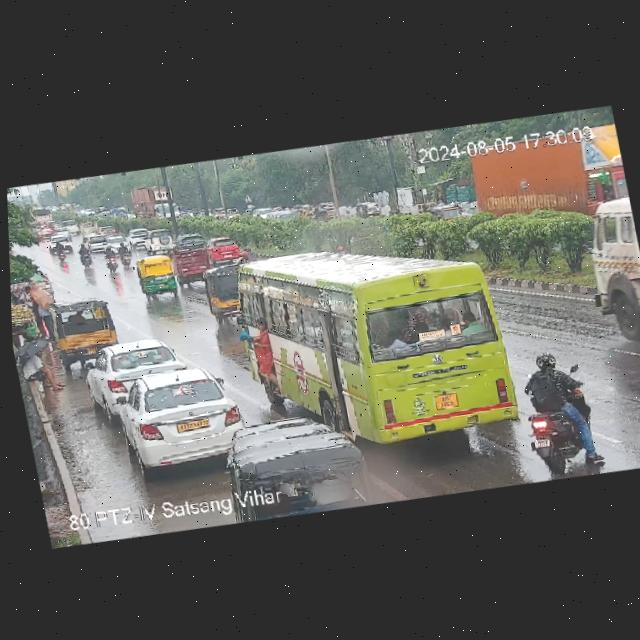bus: (225, 225, 524, 460)
car: (101, 357, 252, 478), (81, 333, 196, 421), (49, 293, 114, 356), (203, 262, 243, 318), (137, 253, 182, 300), (204, 234, 244, 268), (142, 226, 178, 257), (175, 230, 209, 253), (103, 232, 132, 249), (84, 233, 111, 251), (47, 234, 74, 252), (128, 227, 153, 244)
motorcycle: (513, 349, 606, 482), (102, 244, 120, 275), (55, 240, 70, 263), (79, 242, 93, 266), (120, 242, 132, 267)
person: (520, 349, 608, 473), (12, 335, 68, 391), (14, 276, 53, 336), (55, 334, 56, 336)
truck: (459, 121, 631, 225), (570, 194, 640, 347), (77, 221, 101, 238), (64, 220, 81, 235)
